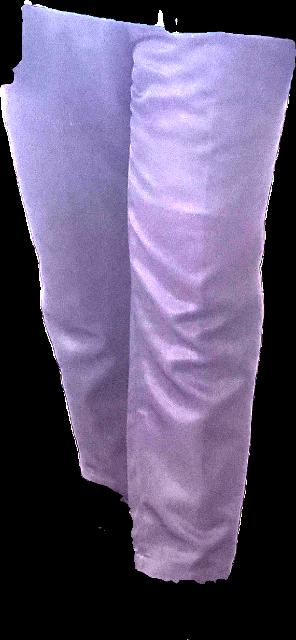blackpants: (0, 0, 295, 583)
